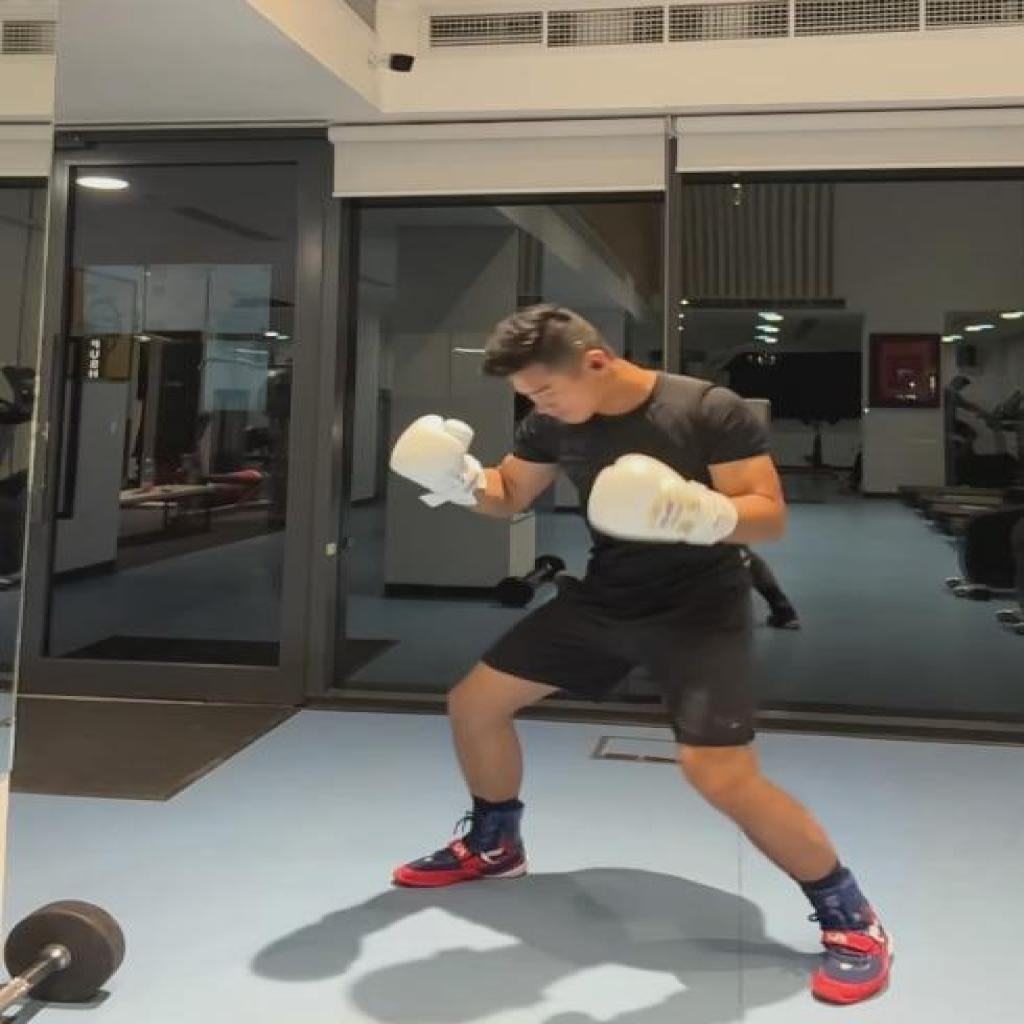no punch: (388, 300, 896, 1014)
